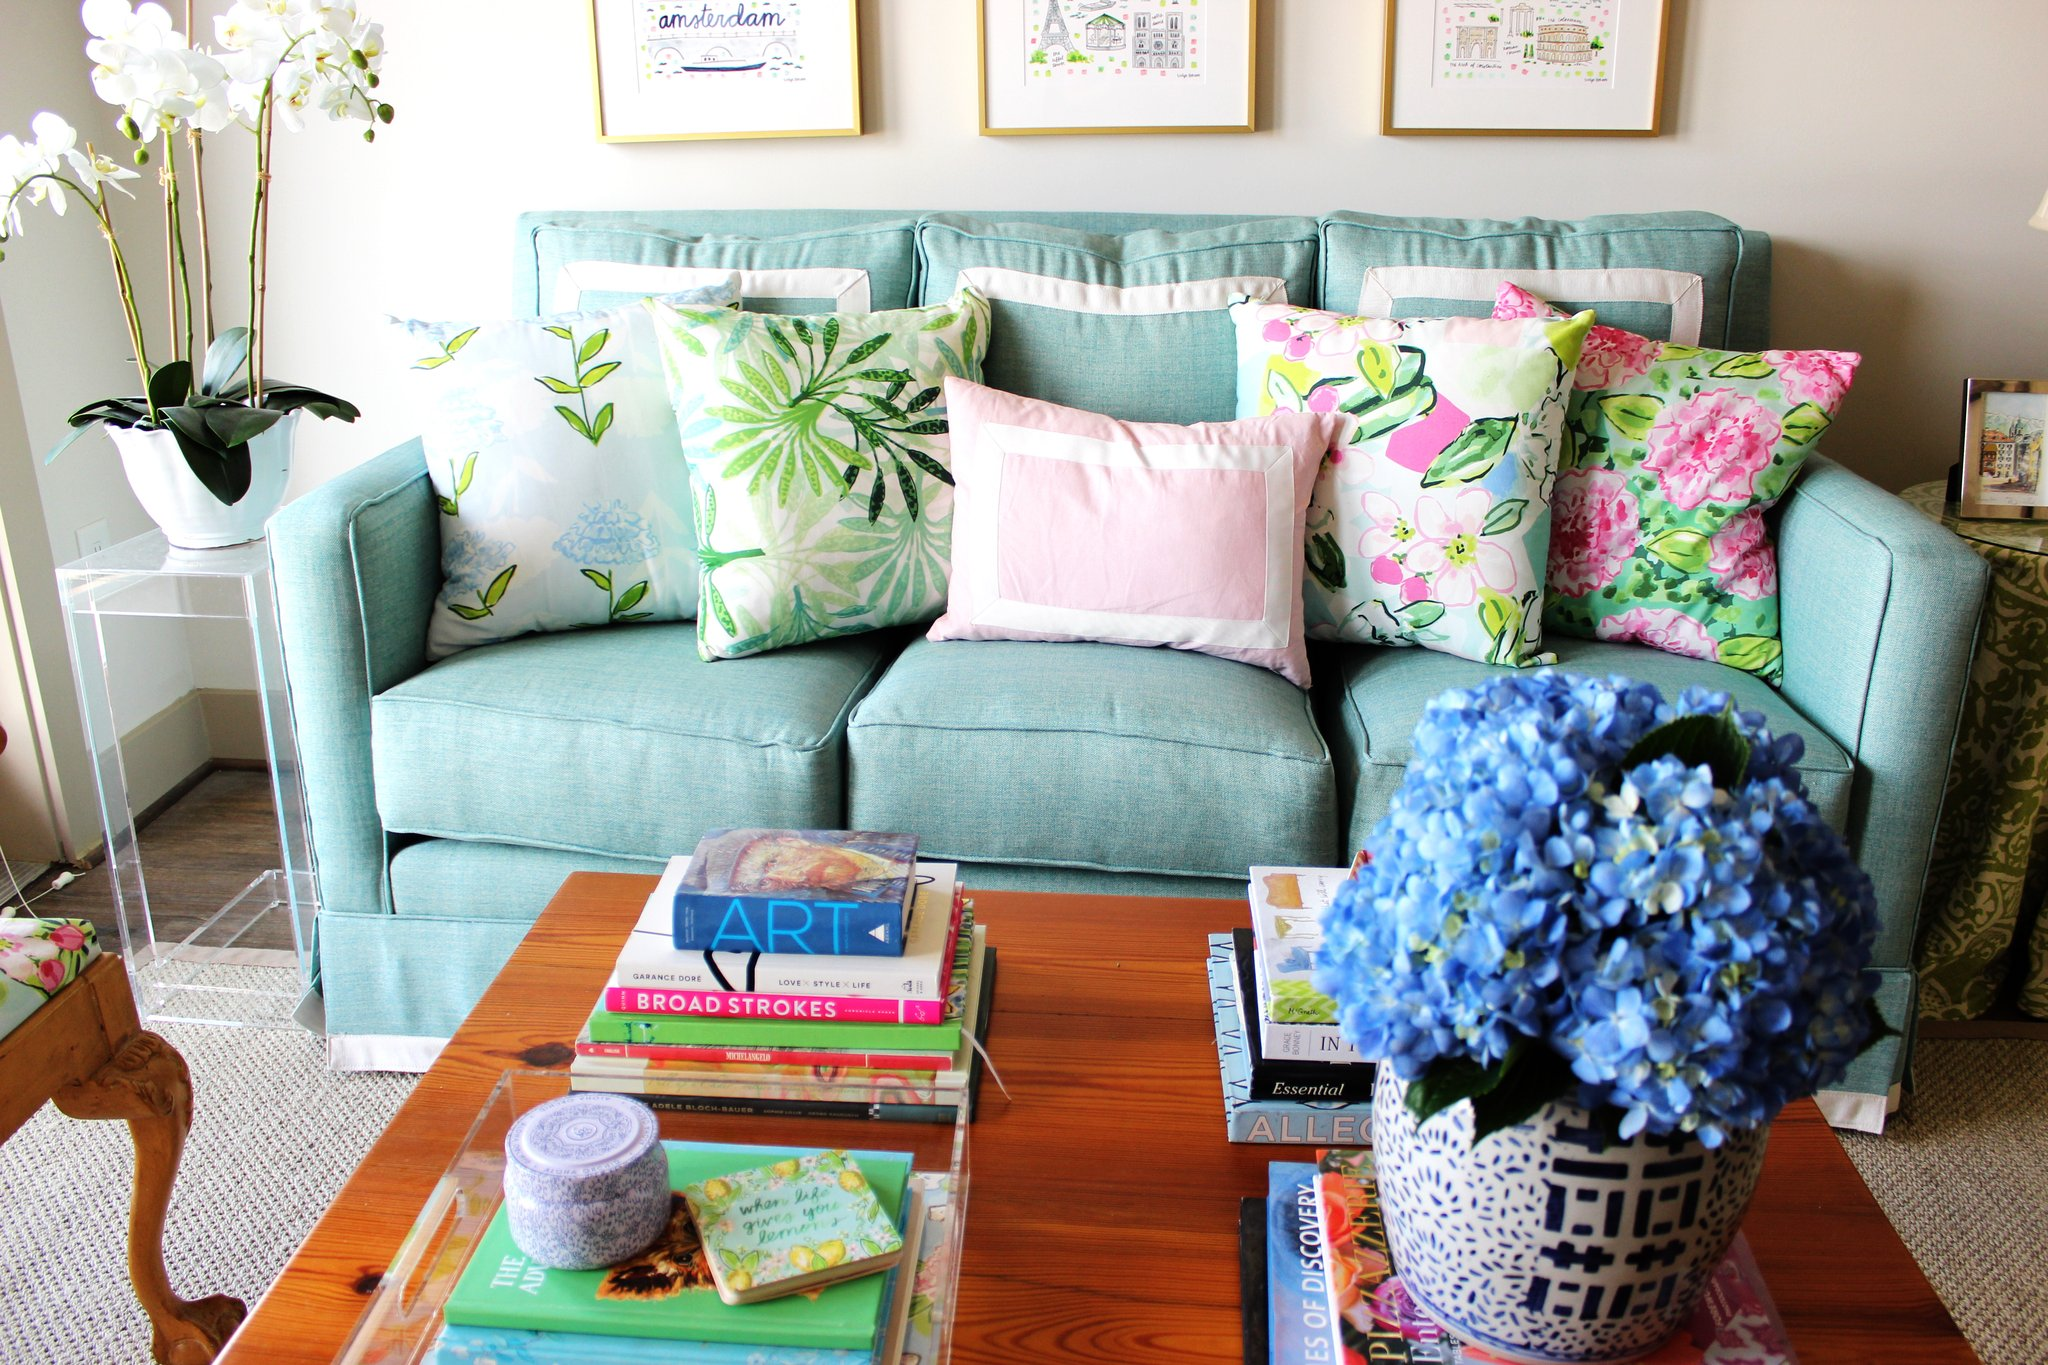coklat: (413, 868, 1937, 1365)
hijau: (454, 206, 1941, 858)
pink: (939, 388, 1297, 655)
putih: (110, 419, 285, 539), (79, 5, 225, 128)
